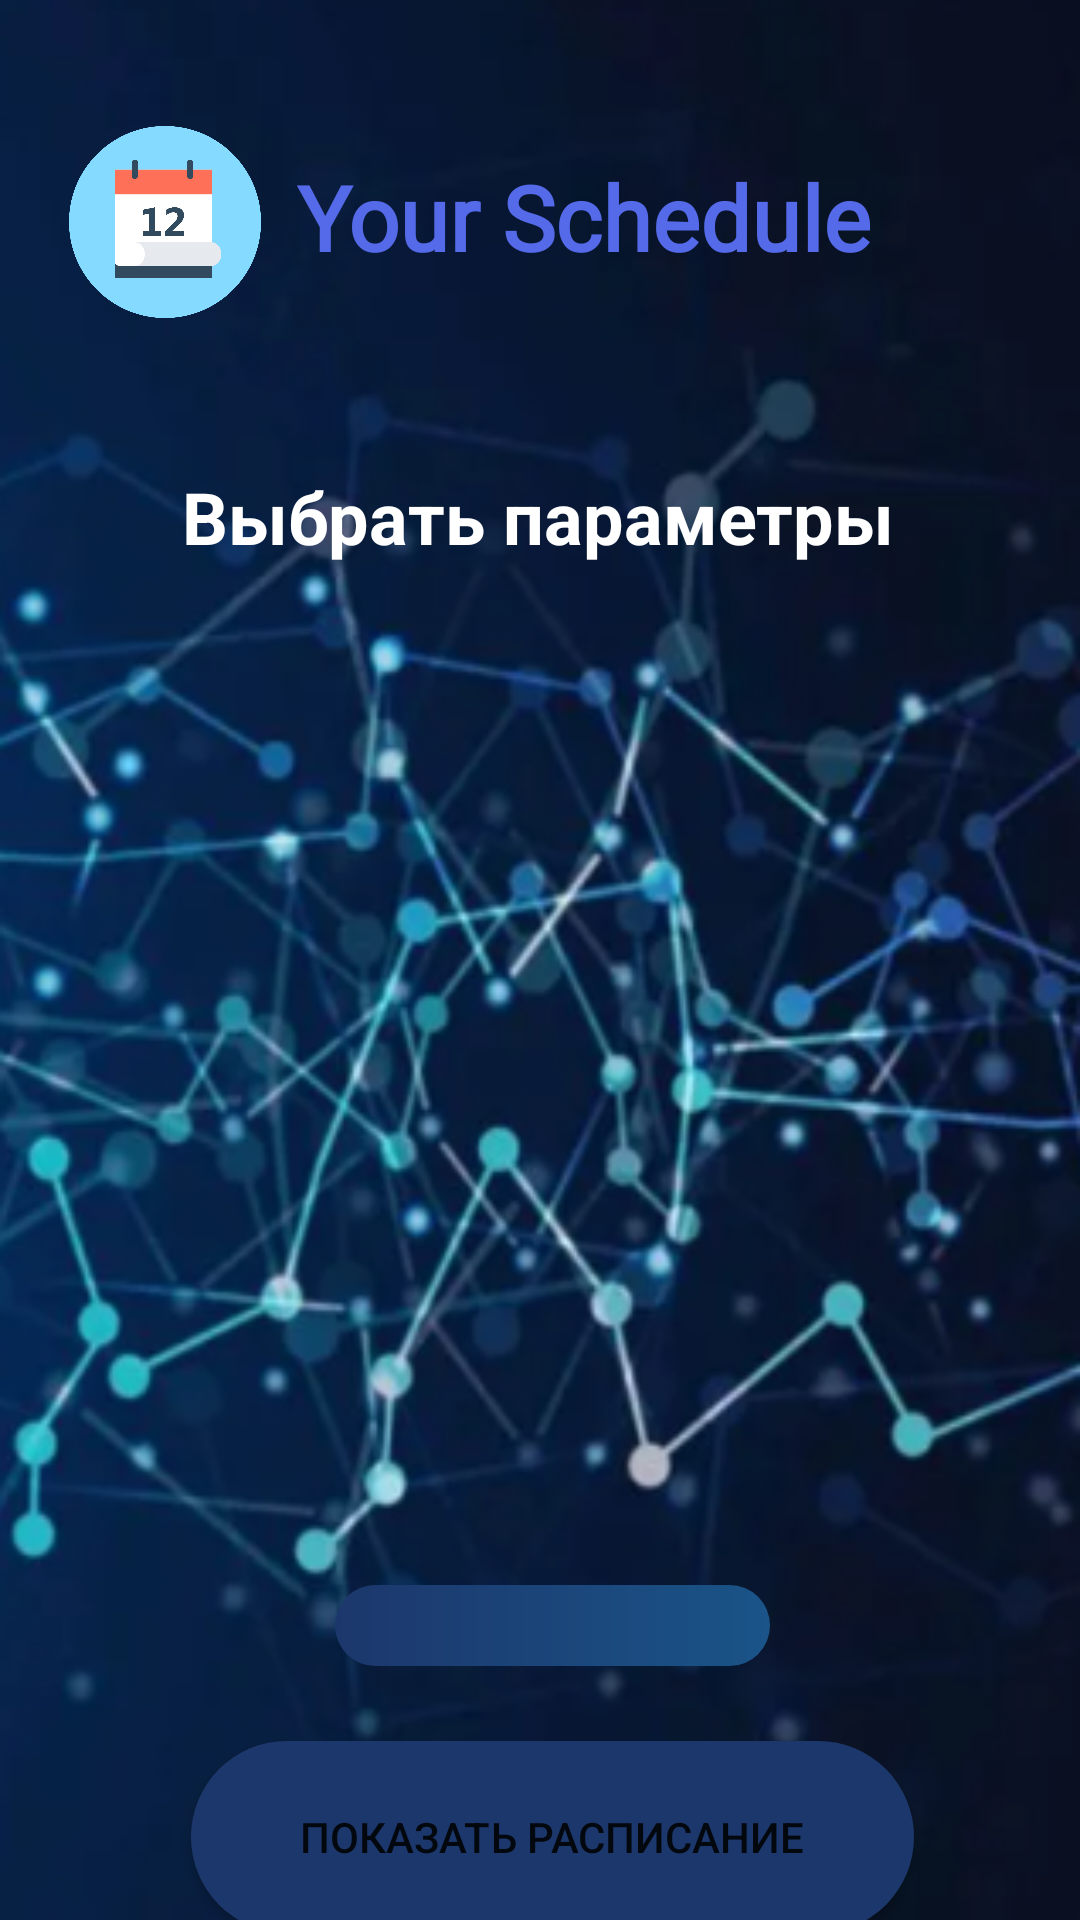

Point at icon controls on the screen. Image size 1080x1920, points as point (x, y).
Описание лого: point (165, 222)
